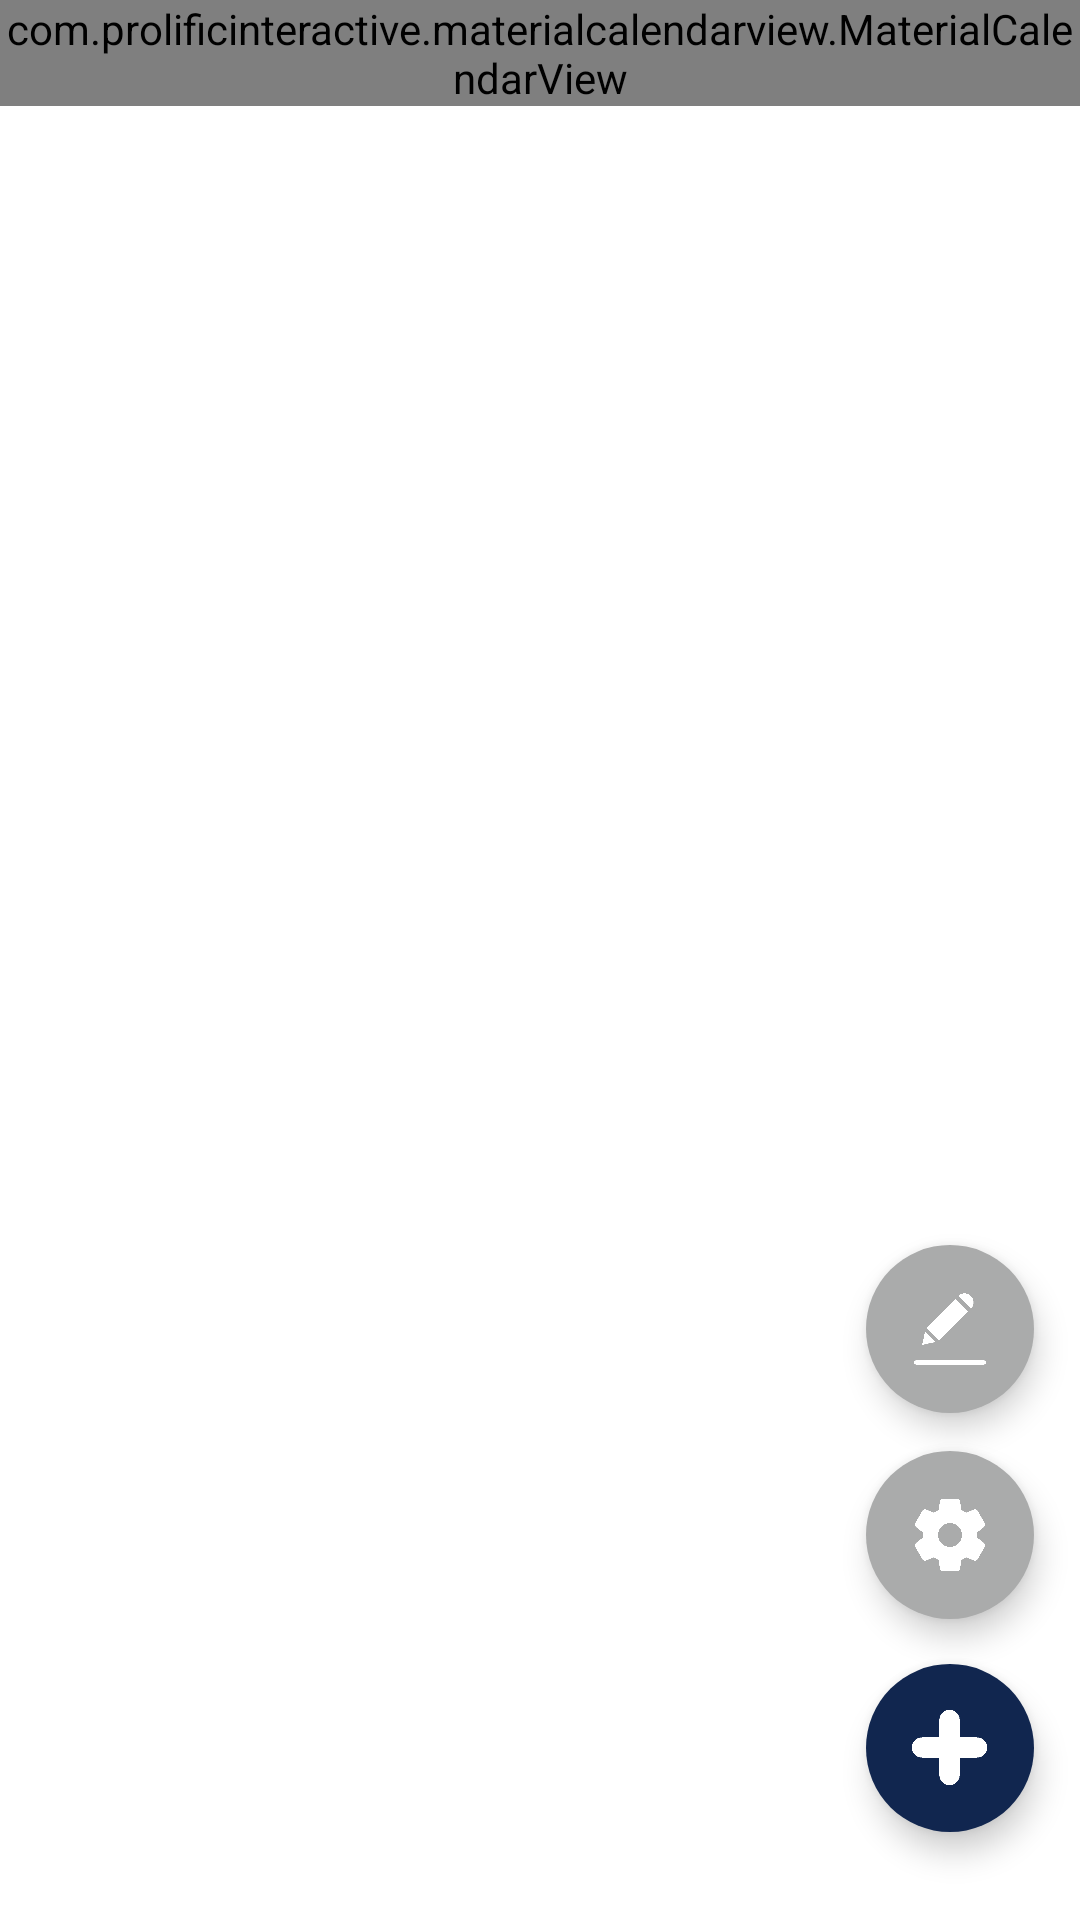

Screen size 1080*1920. Icon name, then its center in pixels as (x,y):
plus: (950,1748)
setting: (950,1535)
write: (950,1329)
